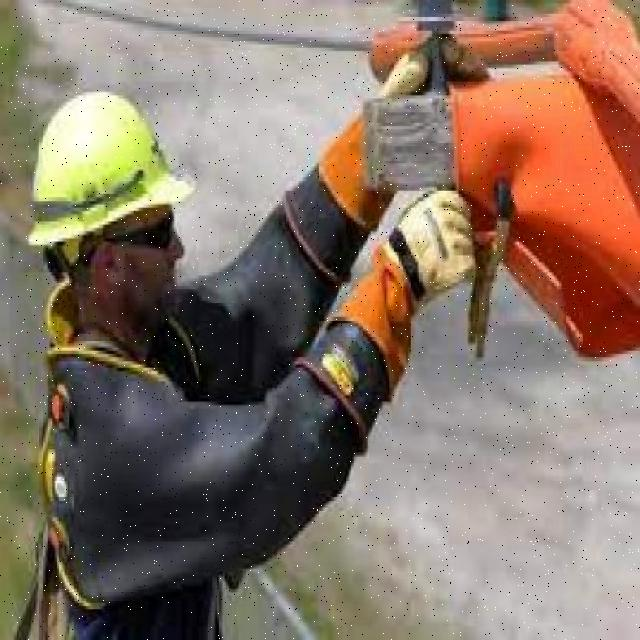Hard_hat: (17, 84, 187, 264)
